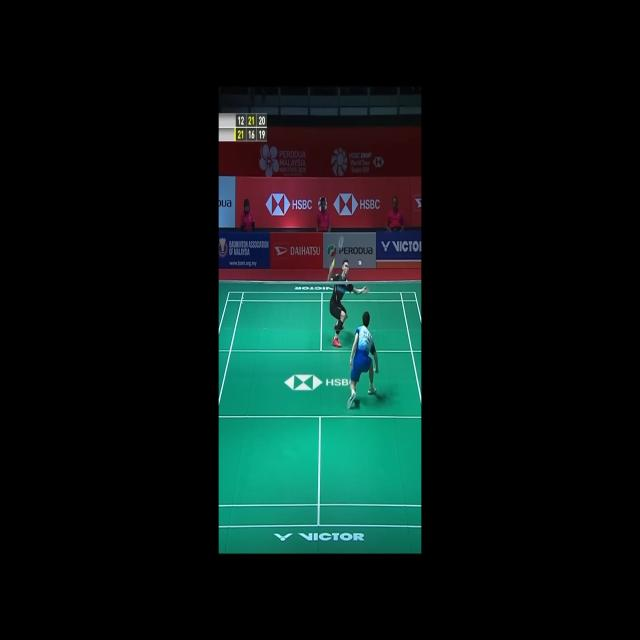shuttle-P15u: (359, 260, 363, 266)
